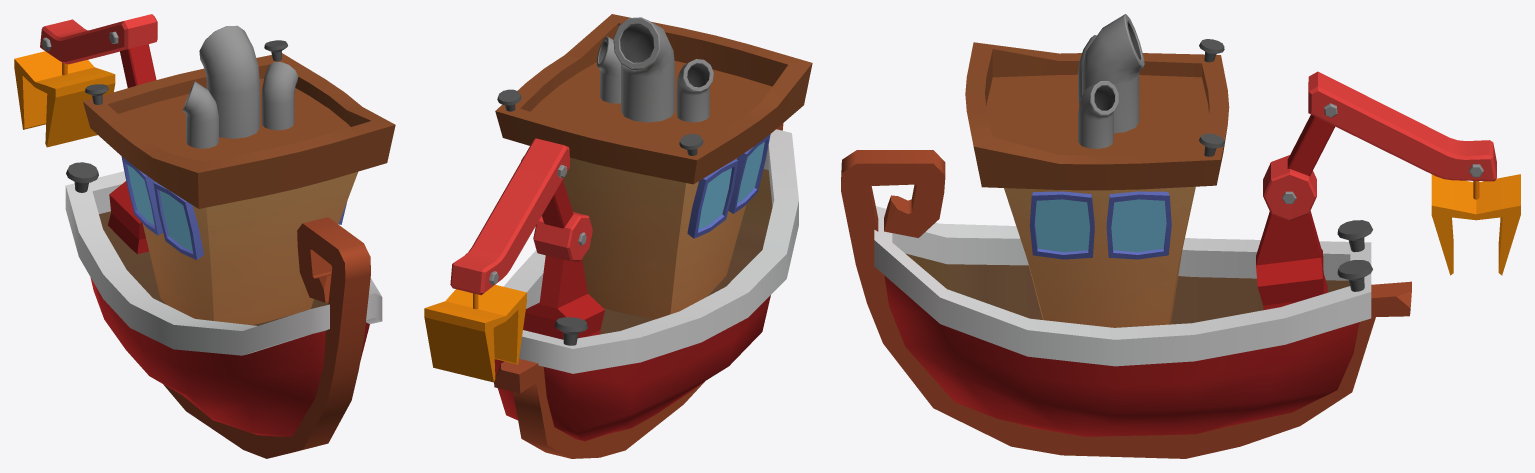
Rendered from boat-02.glb.
3 views of the same model, side by side, from view 1: azimuth 30°, elevation 25°; view 2: azimuth 150°, elevation 25°; view 3: azimuth 270°, elevation 25° (orthographic). The views are drawn at different scales.
Visible parts, largest first — view 1: boat 02; view 2: boat 02; view 3: boat 02.
Boxes of the visible parts, <box> form: boat 02: <box>14,14,395,458</box>; boat 02: <box>424,14,812,458</box>; boat 02: <box>841,14,1520,458</box>.
Bounding box in the file's own units: 1.72 × 3.12 × 4.41.
Materials: 1 (1 with a texture image).
